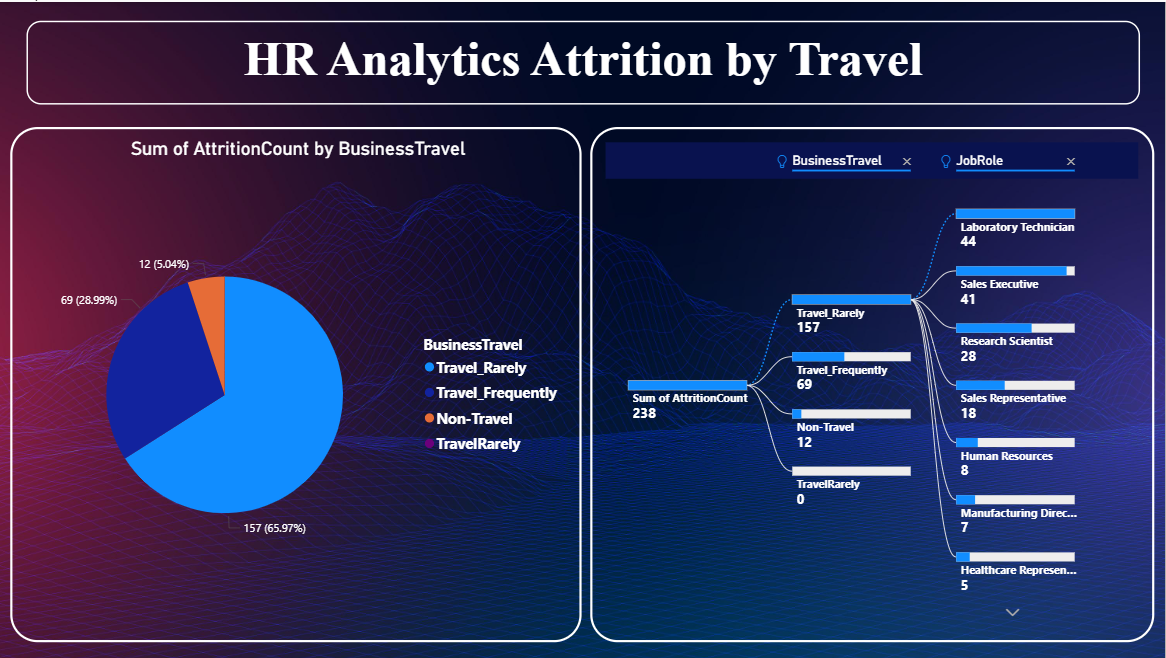

The dashboard page shown, as its layout file describes it:
{"tool":"powerbi","page":{"name":"HR ANALYTICS ATTRITION BY TRAVEL","canvas":[1280,720],"ordinal":1},"visuals":[{"type":"pieChart","fields":{"Y":["Sum(HR_Analytics.AttritionCount)"],"Category":["HR_Analytics.BusinessTravel"]},"box":[12.3,137.2,627.1,565.4],"z":0},{"type":"decompositionTreeVisual","fields":{"Analyze":["Sum(HR_Analytics.AttritionCount)"],"ExplainBy":["HR_Analytics.BusinessTravel","HR_Analytics.JobRole"]},"box":[649.1,137.2,618.9,565.4],"z":1000},{"type":"textbox","box":[30.2,20.6,1222.6,91.9],"z":2000}]}

Visuals, with their boxes in screenshot pixels (x1, y1, x2, y2), scaled from the page's 1280x720 canvas onto the 1166x658 screenshot:
pieChart - Sum(HR_Analytics.AttritionCount) x HR_Analytics.BusinessTravel: Rect(11, 125, 582, 642)
decompositionTreeVisual - Sum(HR_Analytics.AttritionCount) x HR_Analytics.BusinessTravel: Rect(591, 125, 1155, 642)
textbox: Rect(28, 19, 1141, 103)
